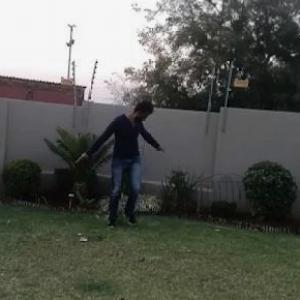land: (81, 87, 189, 244)
